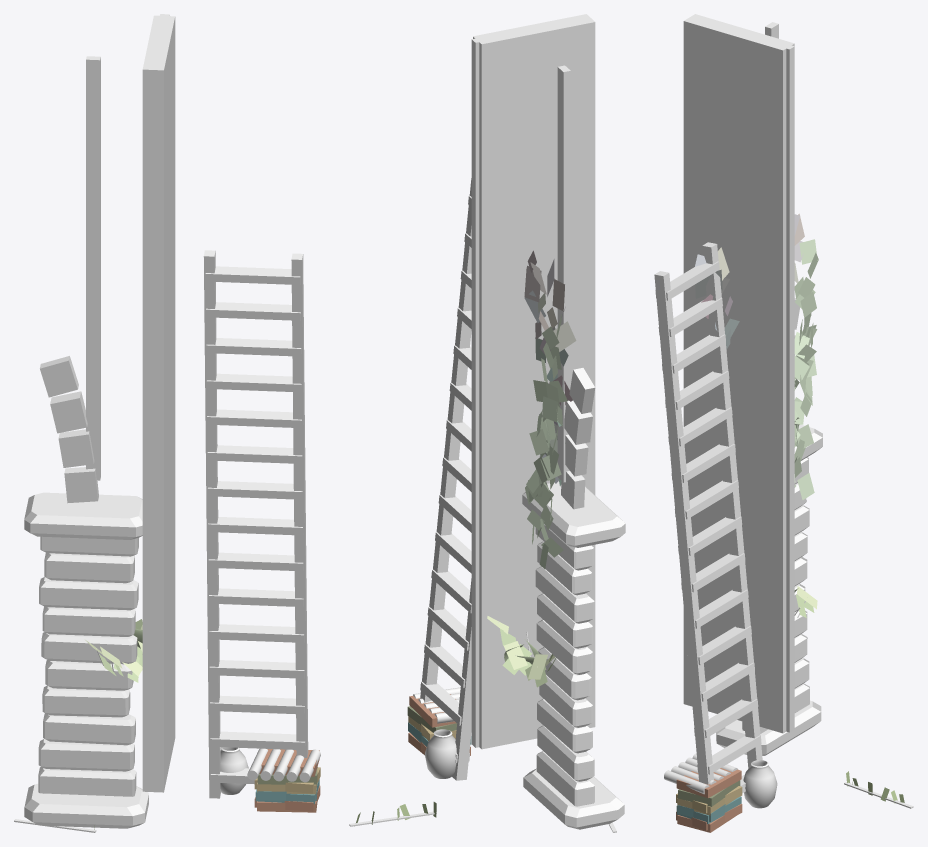
The model's file is camp_bookcase.glb.
3 views of the same model, side by side, from view 1: azimuth 30°, elevation 25°; view 2: azimuth 150°, elevation 25°; view 3: azimuth 270°, elevation 25° (orthographic). The views are drawn at different scales.
Visible parts, largest first — view 1: camp_bookcase__wood, camp_bookcase__limestone, camp_bookcase__brass, camp_bookcase__book_leather, camp_bookcase__pages, camp_bookcase__earthenware; view 2: camp_bookcase__wood, camp_bookcase__limestone, camp_bookcase__brass, camp_bookcase__foliage_ivy_leaf, camp_bookcase__book_leather, camp_bookcase__earthenware, camp_bookcase__foliage_tree_leaf; view 3: camp_bookcase__wood, camp_bookcase__brass, camp_bookcase__foliage_ivy_leaf, camp_bookcase__limestone, camp_bookcase__book_leather, camp_bookcase__earthenware, camp_bookcase__pages.
Boxes of the visible parts, x1,y1,x2,y2 form: camp_bookcase__wood: [142, 15, 308, 798]; camp_bookcase__limestone: [24, 356, 148, 828]; camp_bookcase__brass: [86, 14, 169, 480]; camp_bookcase__book_leather: [254, 749, 320, 812]; camp_bookcase__pages: [247, 748, 320, 782]; camp_bookcase__earthenware: [220, 747, 248, 794]; camp_bookcase__wood: [420, 14, 595, 780]; camp_bookcase__limestone: [522, 368, 625, 829]; camp_bookcase__brass: [471, 37, 570, 747]; camp_bookcase__foliage_ivy_leaf: [500, 250, 576, 687]; camp_bookcase__book_leather: [407, 694, 471, 755]; camp_bookcase__earthenware: [424, 729, 456, 778]; camp_bookcase__foliage_tree_leaf: [487, 616, 554, 679]; camp_bookcase__wood: [654, 14, 794, 793]; camp_bookcase__brass: [765, 22, 794, 732]; camp_bookcase__foliage_ivy_leaf: [695, 213, 818, 617]; camp_bookcase__limestone: [716, 298, 822, 755]; camp_bookcase__book_leather: [676, 768, 742, 832]; camp_bookcase__earthenware: [743, 760, 777, 808]; camp_bookcase__pages: [664, 753, 737, 794].
Size of what is drawn, in the model's own units: 2.52 by 7.2 by 2.3.
